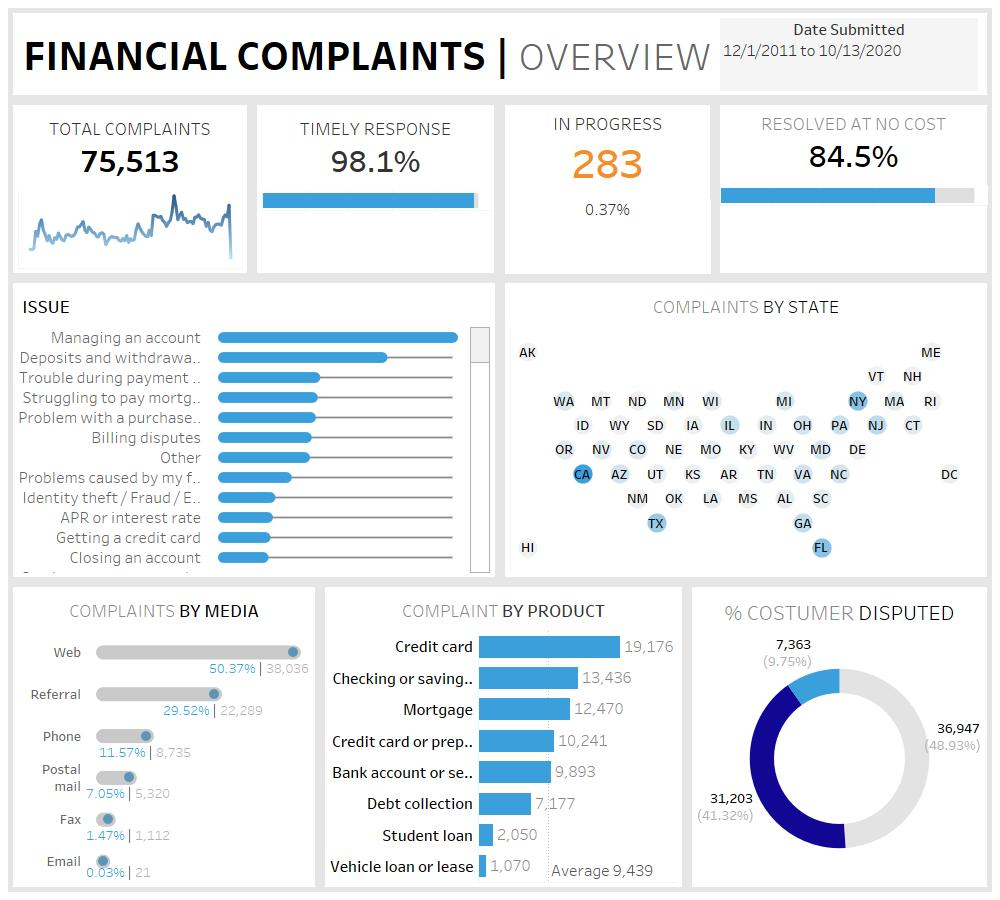

Layout of this report page (visuals, bound fields, positions):
{"tool":"tableau","page":{"name":"FC OVERVIEW","canvas":[1000,800],"ordinal":0},"visuals":[{"type":"text","box":[8,8,984,83.9]},{"type":"worksheet","title":"TOTAL COMPLAINTS","mark":"Automatic","rows":["Financial Consumer Complaints.csv_92A5E5DA1FE04D7E89ABDB50F4"],"cols":["Date Sumbited"],"box":[8,91.9,244,163]},{"type":"worksheet","title":"TIMELY RESPONSE","mark":"Bar","box":[252,91.9,247,163]},{"type":"worksheet","title":"IN PROGRESS","mark":"Automatic","box":[500,91.9,215,163]},{"type":"worksheet","title":"RESOLVED AT NO COST","mark":"Bar","box":[715,91.9,277,163]},{"type":"worksheet","title":"Issue","mark":"Automatic","rows":["Issue"],"cols":["Calculation_1477180709700399106"],"box":[8,254.9,492,278.1]},{"type":"worksheet","title":"State","mark":"Automatic","rows":["Row"],"cols":["Column"],"box":[500,254.9,492,278.1]},{"type":"worksheet","title":"COMPLAINTS BY MEDIA","mark":"Automatic","rows":["Submitted via"],"cols":["Financial Consumer Complaints.csv_92A5E5DA1FE04D7E89ABDB50F4"],"box":[8,533,338,259]},{"type":"worksheet","title":"COMPLAINTS BY PRODUCT","mark":"Automatic","rows":["Product"],"cols":["Financial Consumer Complaints.csv_92A5E5DA1FE04D7E89ABDB50F4"],"box":[346,533,344,259]},{"type":"worksheet","title":"DISPUTE","mark":"Pie","rows":["Calculation_534802487448543238","Calculation_534802487448563720"],"box":[690,533,302,259]}]}

Visuals, with their boxes on the page's 1000x800 design canvas (x1, y1, x2, y2). These are canvas units, not pixel positions in the 1000x900 screenshot, which may show the page scaled, cropped or inside an application window:
text: x1=8 y1=8 x2=992 y2=92
"TOTAL COMPLAINTS" worksheet: x1=8 y1=92 x2=252 y2=255
"TIMELY RESPONSE" worksheet (Bar marks): x1=252 y1=92 x2=499 y2=255
"IN PROGRESS" worksheet: x1=500 y1=92 x2=715 y2=255
"RESOLVED AT NO COST" worksheet (Bar marks): x1=715 y1=92 x2=992 y2=255
"Issue" worksheet: x1=8 y1=255 x2=500 y2=533
"State" worksheet: x1=500 y1=255 x2=992 y2=533
"COMPLAINTS BY MEDIA" worksheet: x1=8 y1=533 x2=346 y2=792
"COMPLAINTS BY PRODUCT" worksheet: x1=346 y1=533 x2=690 y2=792
"DISPUTE" worksheet (Pie marks): x1=690 y1=533 x2=992 y2=792
